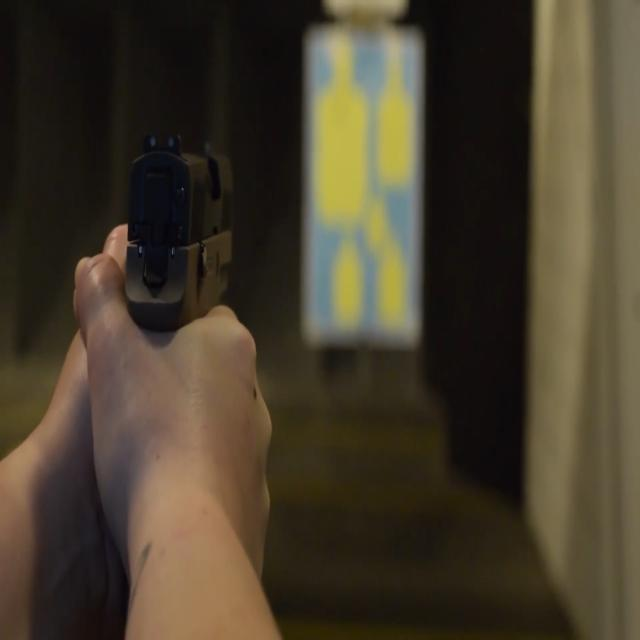handgun: (110, 132, 256, 376)
